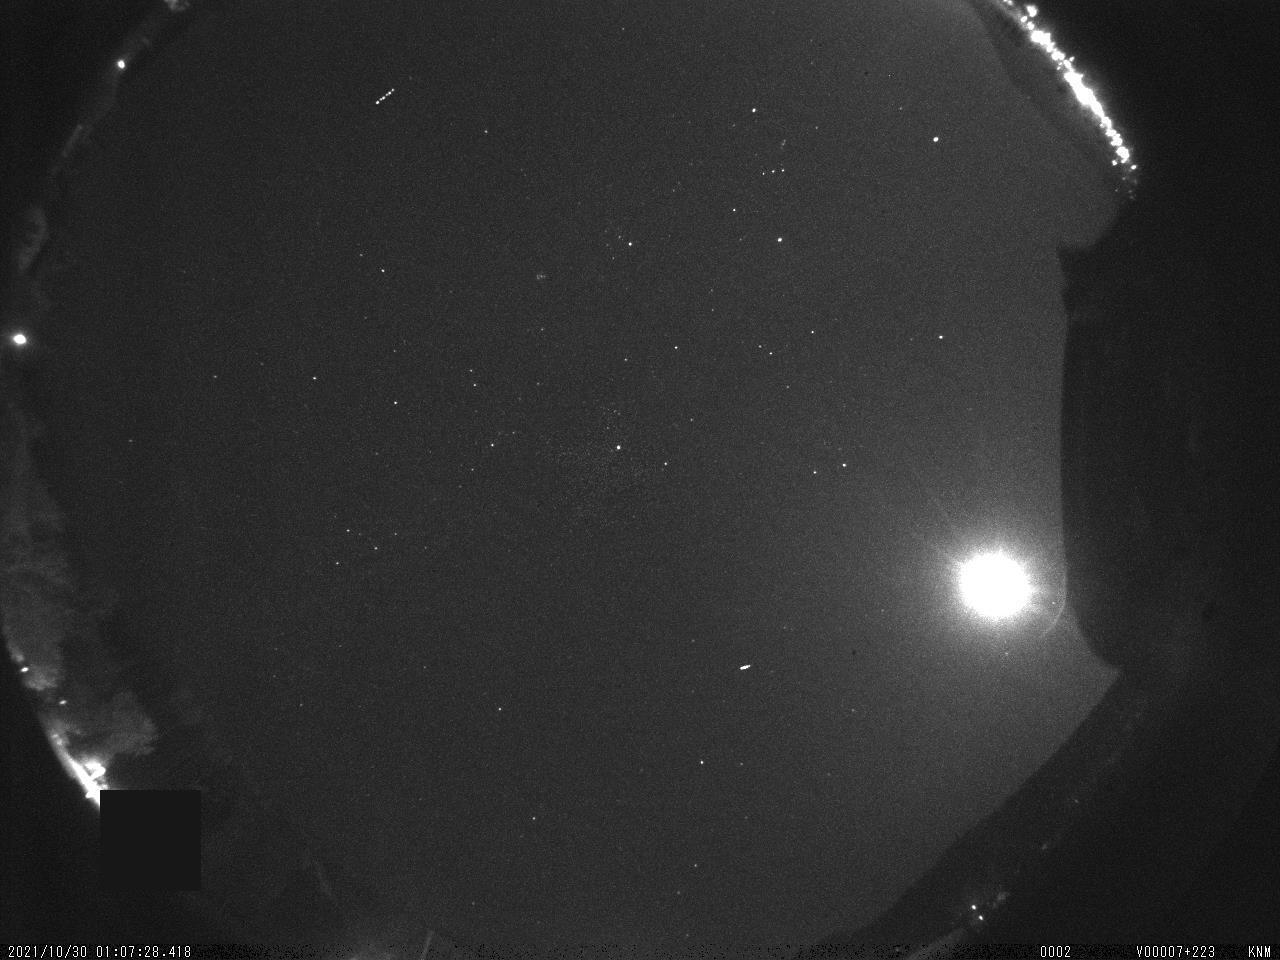Meteor: (733, 654, 761, 679)
